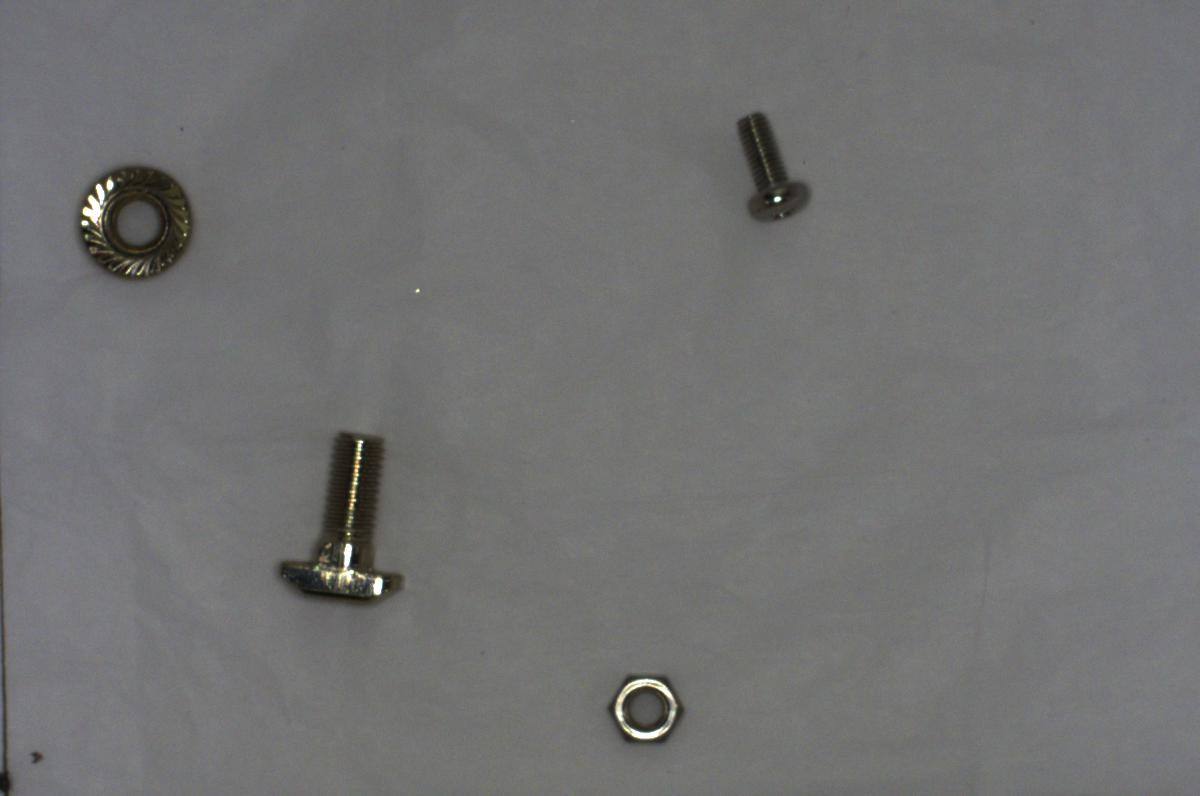Flange nut: (68, 152, 202, 285)
Hexagon nut: (594, 662, 692, 754)
Round head screw: (721, 94, 820, 233)
T-shaped screw: (265, 416, 412, 609)
